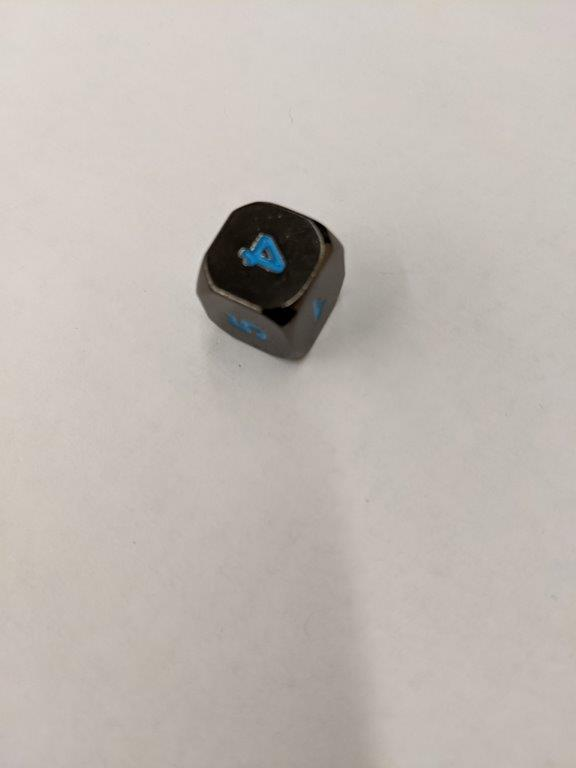d6-4: (192, 199, 346, 368)
